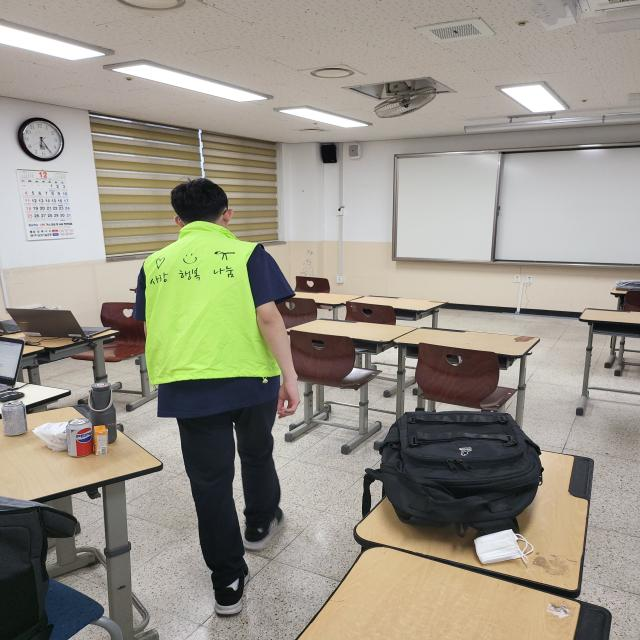weston_spy: (124, 214, 306, 407)
